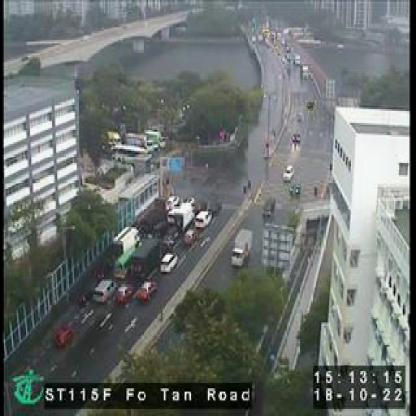Car: (94, 280, 115, 306), (52, 322, 73, 348), (138, 279, 158, 306), (115, 282, 133, 307), (194, 209, 212, 230), (161, 251, 177, 273), (182, 228, 196, 247), (165, 196, 180, 212), (284, 162, 296, 178), (302, 67, 311, 81), (292, 131, 300, 144), (296, 112, 303, 123)
Minibus: (114, 248, 135, 280)
Truck: (124, 234, 162, 281), (113, 227, 141, 261), (232, 228, 255, 267), (173, 200, 194, 233)
